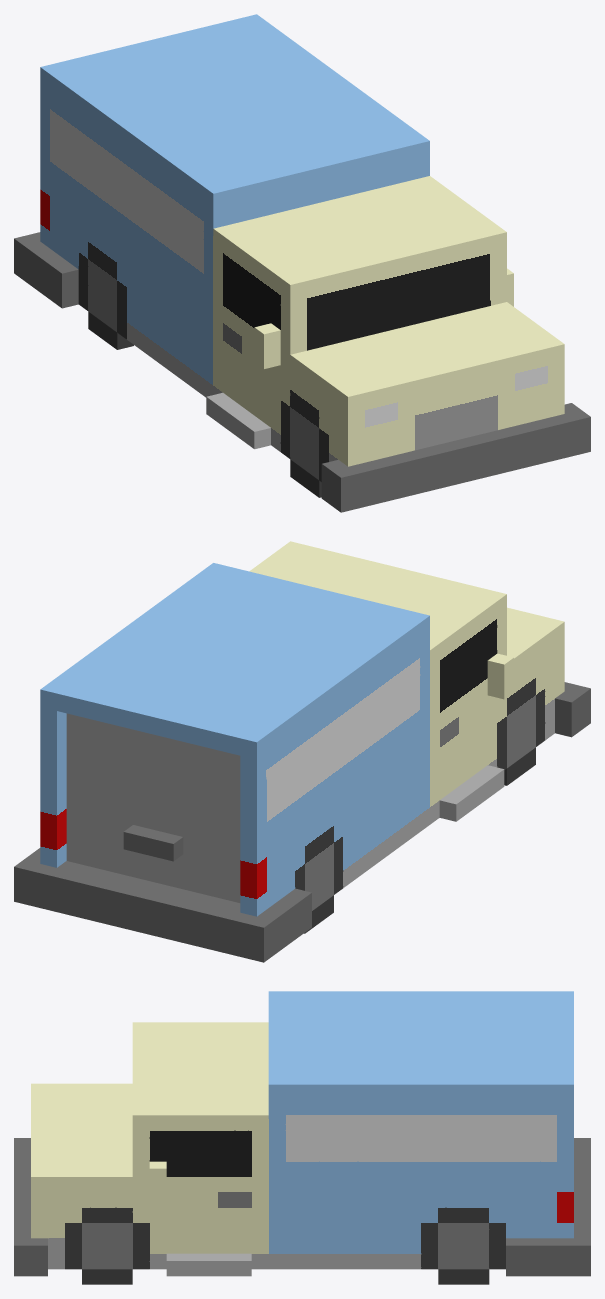
The model's file is veh_truck2.dae.
The picture shows the model from 3 angles, top to bottom: view 1: azimuth 30°, elevation 25°; view 2: azimuth 150°, elevation 25°; view 3: azimuth 270°, elevation 25°; orthographic projection. The views are drawn at different scales.
Parts seen in each view (by area): view 1: veh_truck2; view 2: veh_truck2; view 3: veh_truck2.
Boxes of the visible parts, x1=… form: veh_truck2: x1=14, y1=14, x2=590, y2=512; veh_truck2: x1=14, y1=541, x2=590, y2=962; veh_truck2: x1=14, y1=991, x2=590, y2=1284.
Size of the model in its own units: 1.5 by 3.4 by 1.3.
Materials: 1 (1 with a texture image).
